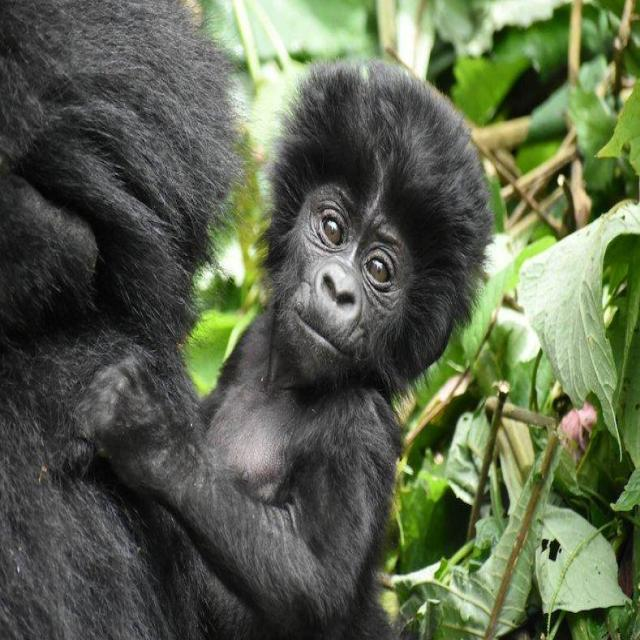Gorilla: (186, 29, 498, 610)
